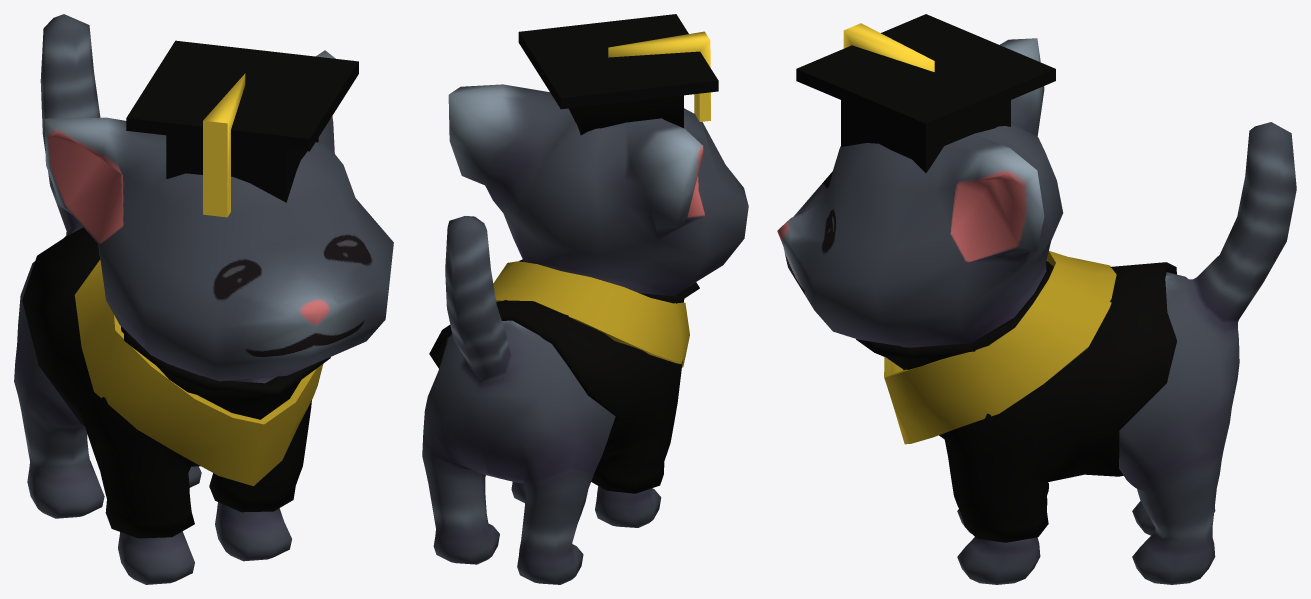
Rendered from Scholar Cat04.fbx.
3 renders of one model, left to right at view 1: azimuth 30°, elevation 25°; view 2: azimuth 150°, elevation 25°; view 3: azimuth 270°, elevation 25°, orthographic. The views are drawn at different scales.
Visible parts, largest first — view 1: Cat_Base003, Scholar_Cat_Shirt, Scholar_Cat_Cap, Plane003; view 2: Cat_Base003, Scholar_Cat_Cap, Scholar_Cat_Shirt, Plane003; view 3: Cat_Base003, Scholar_Cat_Shirt, Scholar_Cat_Cap, Plane003.
Part boxes in pixels (<box>): Cat_Base003: <box>14,14,393,584</box>; Scholar_Cat_Shirt: <box>22,227,330,538</box>; Scholar_Cat_Cap: <box>126,40,358,217</box>; Plane003: <box>74,260,323,486</box>; Cat_Base003: <box>422,84,748,584</box>; Scholar_Cat_Cap: <box>518,14,718,135</box>; Scholar_Cat_Shirt: <box>429,259,699,493</box>; Plane003: <box>493,261,689,367</box>; Cat_Base003: <box>777,38,1296,584</box>; Scholar_Cat_Shirt: <box>856,261,1176,542</box>; Scholar_Cat_Cap: <box>796,14,1055,172</box>; Plane003: <box>884,251,1116,444</box>.
Bounding box in the file's own units: 1.75 × 2.83 × 2.97.
4 materials, 1 textured.
